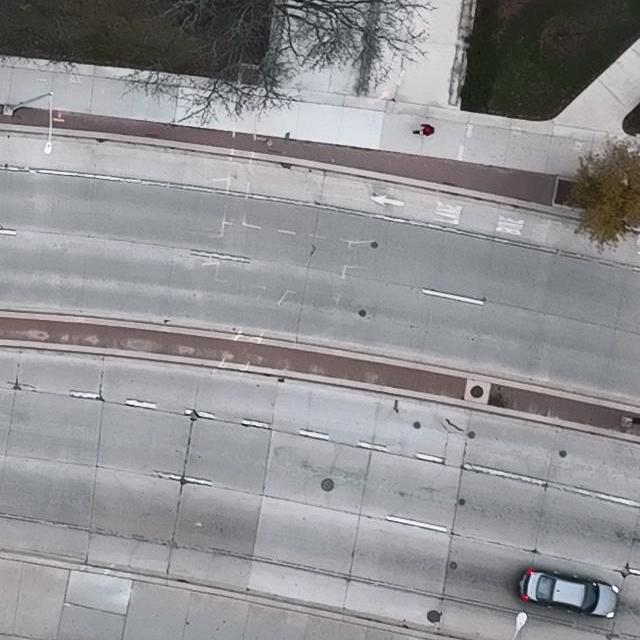car: (519, 570, 619, 619)
